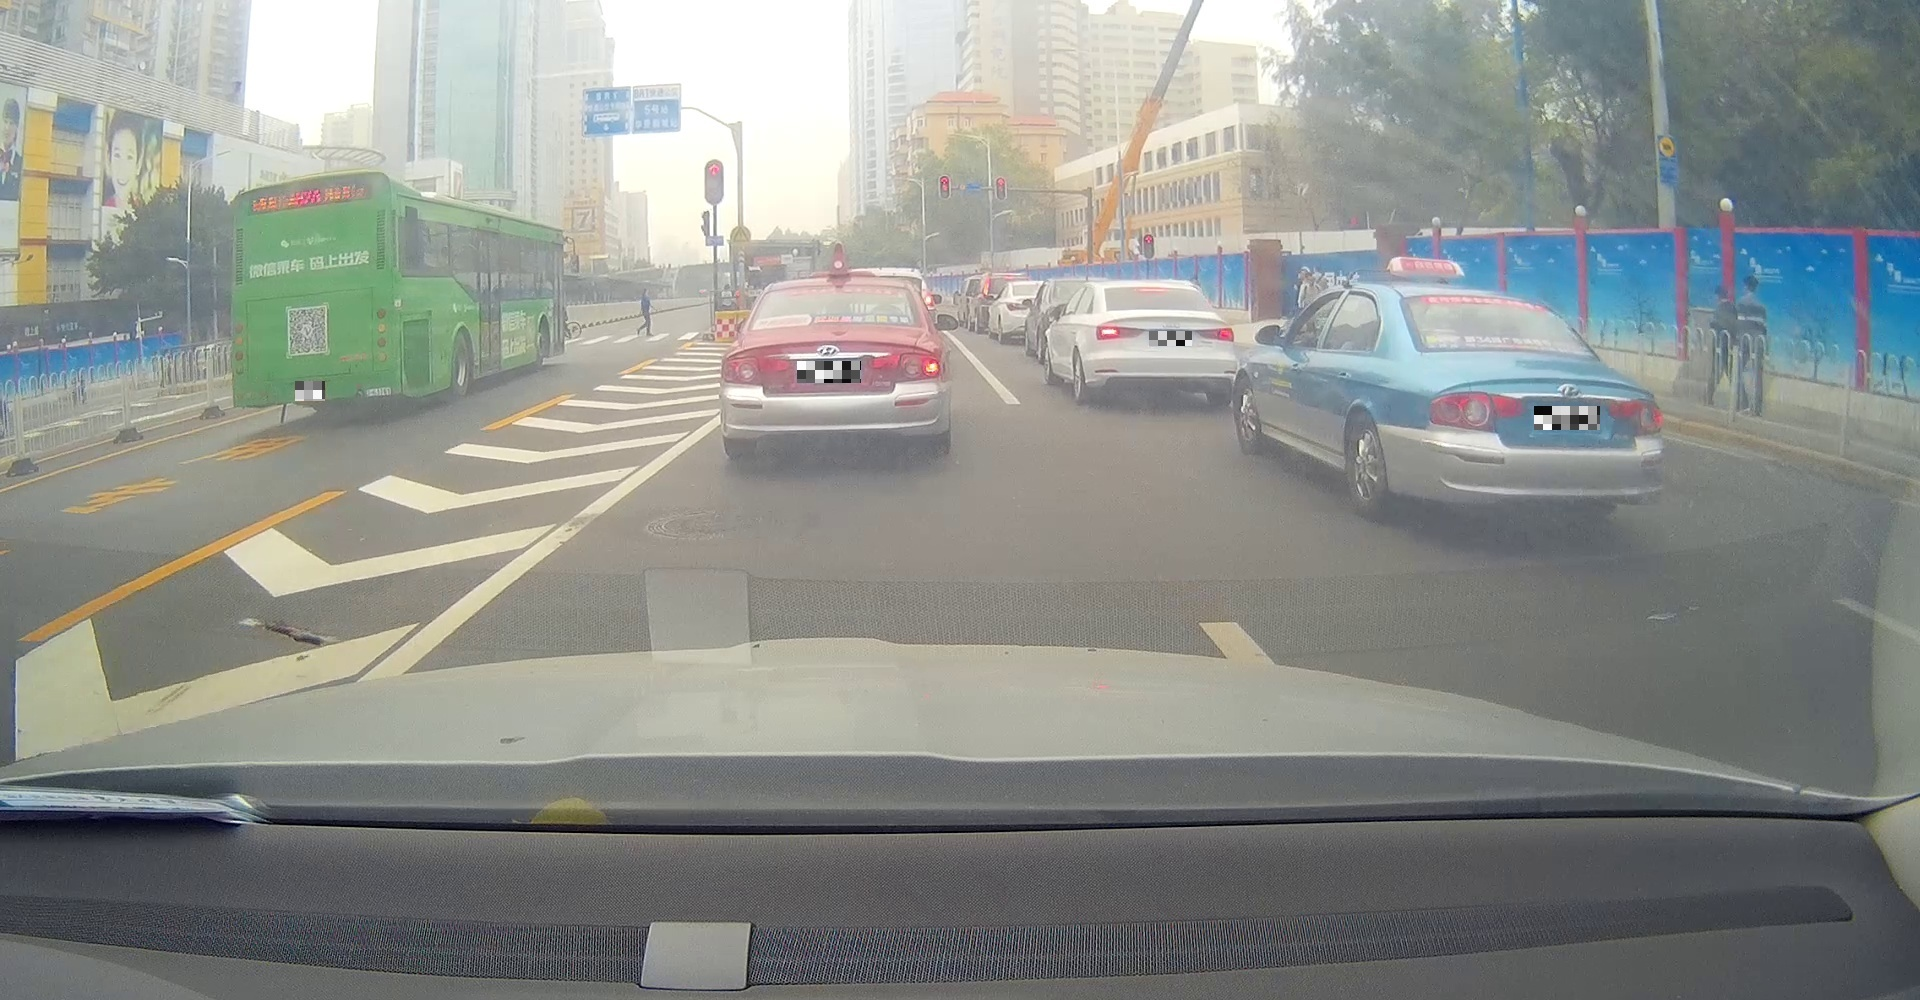L_light: (1427, 391, 1528, 434), (721, 357, 763, 386), (1096, 325, 1147, 341), (234, 324, 244, 376)
R_light: (1605, 398, 1663, 434), (894, 352, 941, 383), (376, 308, 387, 362), (1195, 327, 1234, 341)
T_light: (1506, 344, 1542, 352), (1135, 288, 1170, 293), (817, 321, 852, 325), (293, 181, 321, 184)
day-brake: (1088, 279, 1239, 406)
day-no: (1390, 282, 1663, 522), (229, 170, 397, 414)
day-right: (719, 277, 952, 461)
plate_1: (295, 381, 325, 401)
plate_2: (797, 360, 861, 383)
plate_3: (1149, 331, 1192, 346)
plate_4: (1534, 406, 1600, 430)
